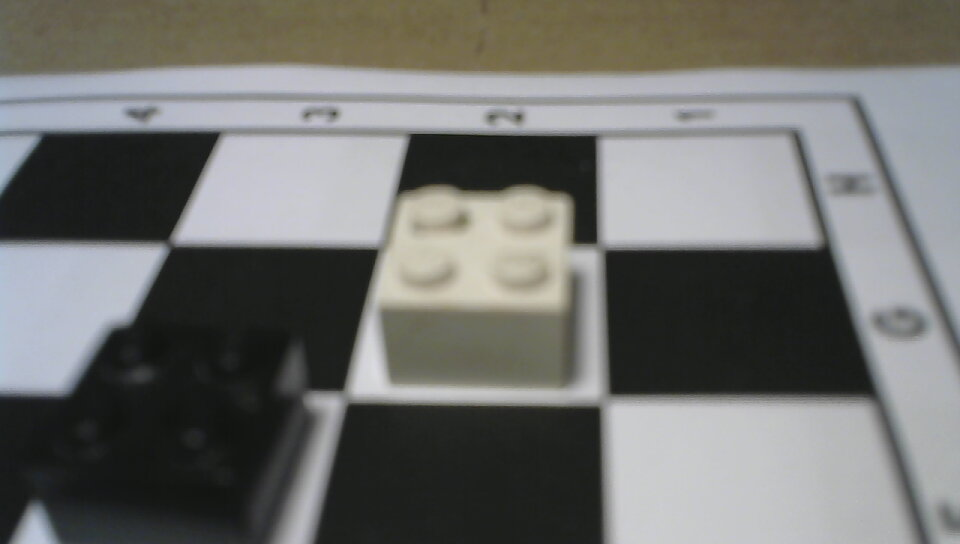wp: (371, 176, 584, 395)
